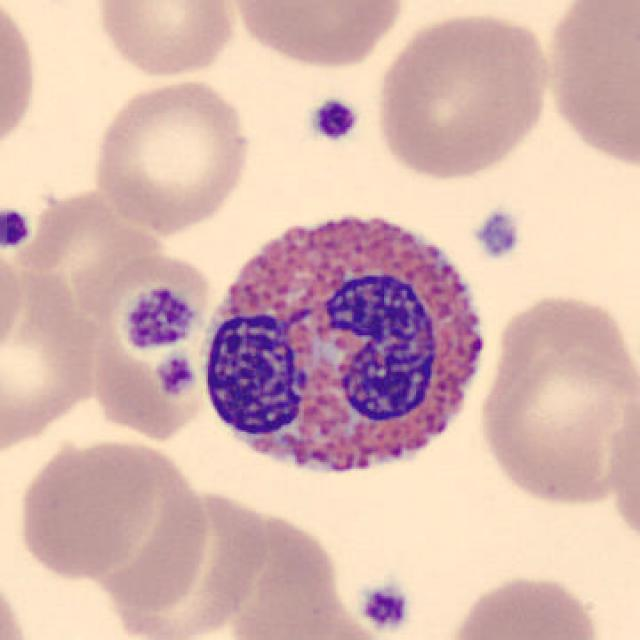Eosinophil: (192, 190, 501, 498)
Platelets: (119, 282, 201, 353), (356, 578, 414, 635), (471, 206, 525, 263), (306, 95, 362, 145), (153, 352, 199, 398), (0, 205, 34, 252)
RBC: (471, 286, 637, 513), (370, 7, 556, 182), (87, 74, 256, 235), (491, 346, 640, 511), (12, 434, 166, 582), (127, 500, 270, 636), (178, 521, 341, 640), (98, 449, 207, 614), (23, 188, 159, 318), (540, 0, 638, 175), (0, 270, 99, 442), (224, 0, 407, 71), (89, 0, 240, 81), (443, 569, 606, 640), (220, 583, 396, 640), (0, 0, 41, 166), (0, 229, 28, 366), (0, 562, 39, 640)
